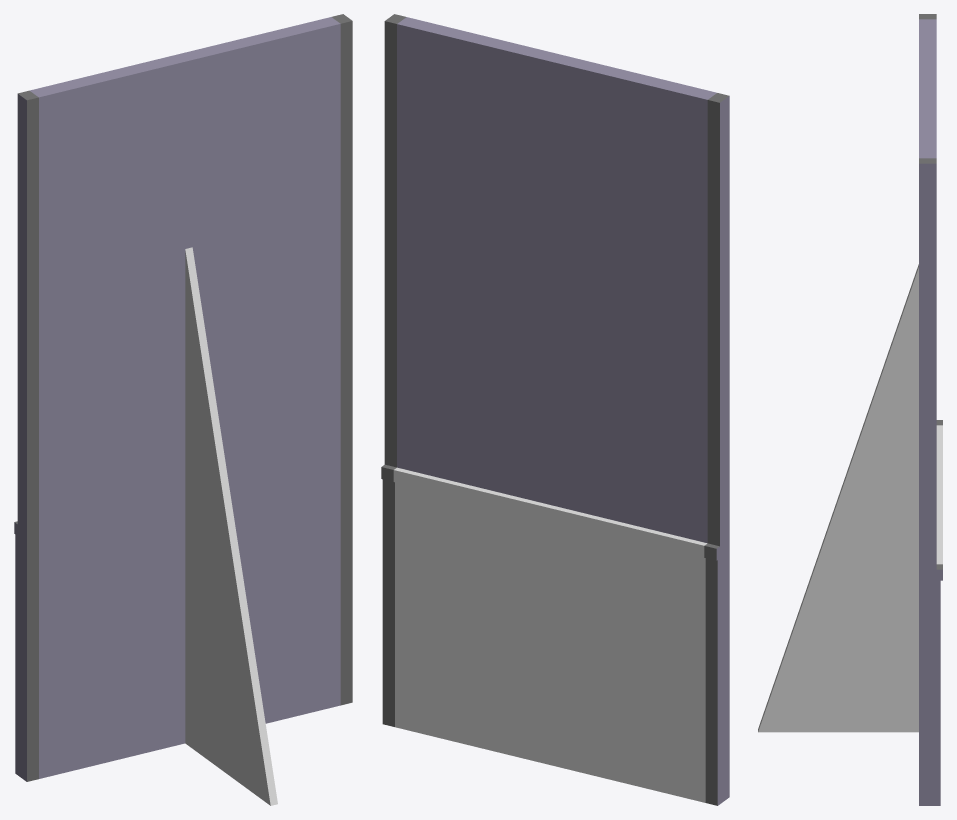
The model's file is Wall-01.fbx.
3 renders of one model, left to right at view 1: azimuth 30°, elevation 25°; view 2: azimuth 150°, elevation 25°; view 3: azimuth 270°, elevation 25°, orthographic. The views are drawn at different scales.
Visible parts, largest first — view 1: Wall 01; view 2: Wall 01; view 3: Wall 01.
Boxes of the visible parts, x1,y1,x2,y2 form: Wall 01: (14,14,352,805); Wall 01: (381,14,729,805); Wall 01: (758,14,942,805).
Bounding box in the file's own units: 100 × 200 × 52.16.
